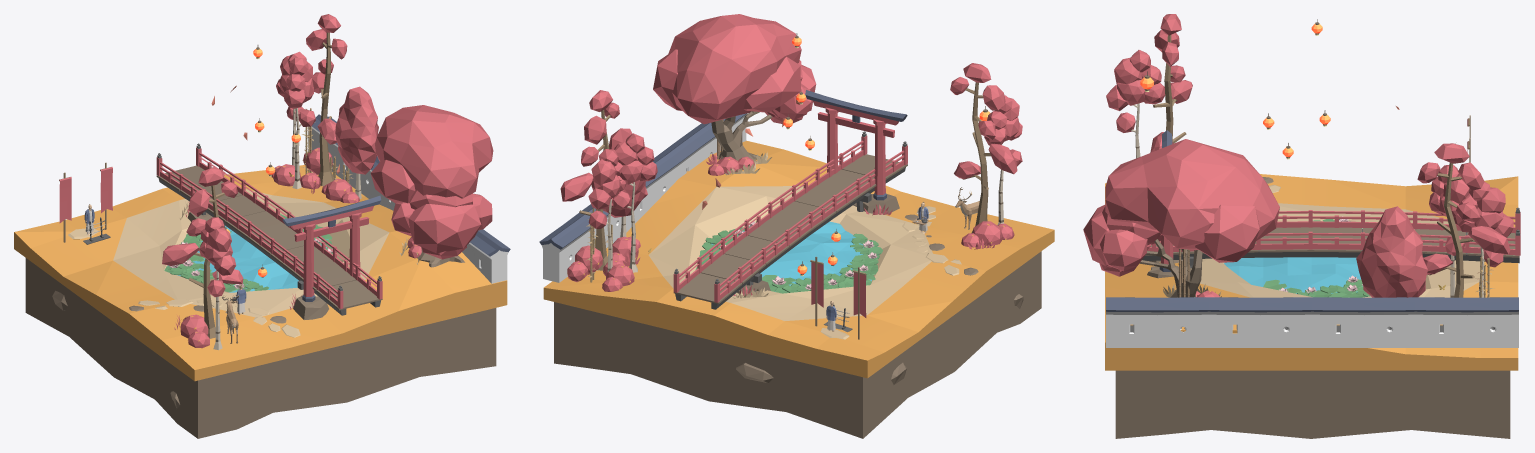
File: japan.glb
3 views of the same model, side by side, from view 1: azimuth 30°, elevation 25°; view 2: azimuth 150°, elevation 25°; view 3: azimuth 270°, elevation 25° (orthographic). The views are drawn at different scales.
Visible parts, largest first — view 1: world_field__2_, tree_bonsai, bridge_japan, japan_tree_tall__1_, gate_red_japan, tree_birch, japan_tree_tall, world_field__3_, tree_birch_tall__1_, tree_birch_tall__2_, wall_japan_small__3_, tree_birch_tall (+5 smaller); view 2: world_field__2_, tree_bonsai, bridge_japan, japan_tree_tall__1_, gate_red_japan, world_field__3_, japan_tree_tall, wall_japan_small, tree_birch_tall__2_, tree_birch_tall, wall_japan_small__2_, tree_birch_tall__1_ (+6 smaller); view 3: world_field__2_, tree_bonsai, bridge_japan, wall_japan_small, wall_japan_small__1_, wall_japan_small__3_, wall_japan_small__2_, tree_birch, japan_tree_tall, world_field__3_, tree_birch_tall__1_, japan_tree_tall__1_ (+2 smaller).
Part boxes in pixels (x1,y1,x2,y2): world_field__2_: [14, 165, 507, 438]; tree_bonsai: [370, 105, 493, 267]; bridge_japan: [156, 143, 382, 315]; japan_tree_tall__1_: [162, 166, 243, 338]; gate_red_japan: [282, 195, 381, 301]; tree_birch: [335, 86, 378, 198]; japan_tree_tall: [306, 14, 347, 186]; world_field__3_: [167, 225, 328, 292]; tree_birch_tall__1_: [199, 217, 236, 350]; tree_birch_tall__2_: [284, 58, 315, 189]; wall_japan_small__3_: [462, 229, 510, 283]; tree_birch_tall: [276, 51, 312, 166]; world_field__2_: [543, 140, 1054, 438]; tree_bonsai: [653, 14, 816, 161]; bridge_japan: [673, 131, 907, 309]; japan_tree_tall__1_: [950, 63, 1017, 233]; gate_red_japan: [805, 90, 907, 200]; world_field__3_: [711, 221, 878, 291]; japan_tree_tall: [560, 90, 619, 270]; wall_japan_small: [539, 207, 608, 282]; tree_birch_tall__2_: [612, 133, 657, 272]; tree_birch_tall: [588, 149, 626, 271]; wall_japan_small__2_: [652, 136, 702, 205]; tree_birch_tall__1_: [984, 95, 1022, 225]; world_field__2_: [1105, 174, 1518, 438]; tree_bonsai: [1083, 139, 1279, 297]; bridge_japan: [1142, 207, 1520, 268]; wall_japan_small: [1415, 297, 1518, 347]; wall_japan_small__1_: [1312, 297, 1415, 347]; wall_japan_small__3_: [1106, 297, 1209, 347]; wall_japan_small__2_: [1209, 297, 1312, 347]; tree_birch: [1356, 206, 1427, 297]; japan_tree_tall: [1417, 143, 1510, 297]; world_field__3_: [1224, 257, 1362, 293]; tree_birch_tall__1_: [1106, 50, 1165, 158]; japan_tree_tall__1_: [1150, 14, 1192, 152].
Size of the model in its own units: 21.27 by 17.94 by 21.18.
